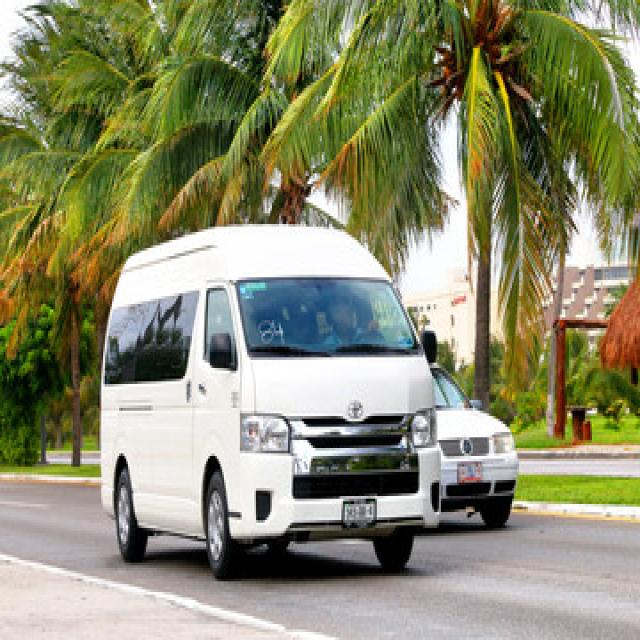car: (430, 363, 517, 525)
van: (101, 227, 437, 576)
